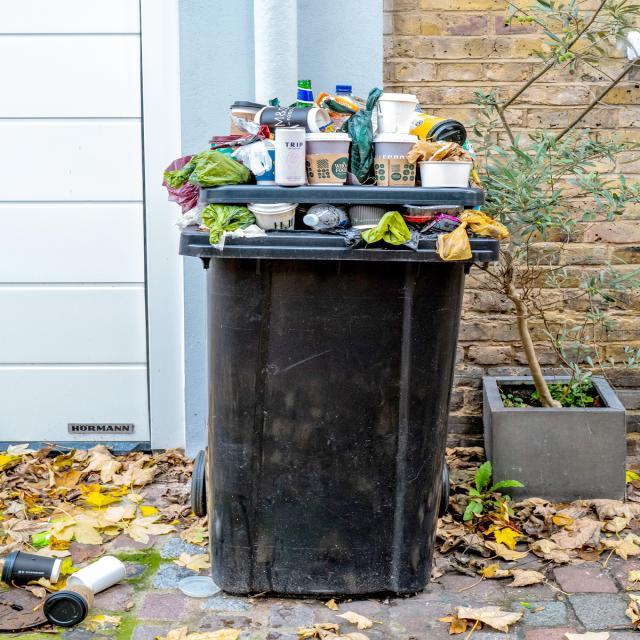garbage: (153, 68, 507, 262), (6, 520, 134, 634)
